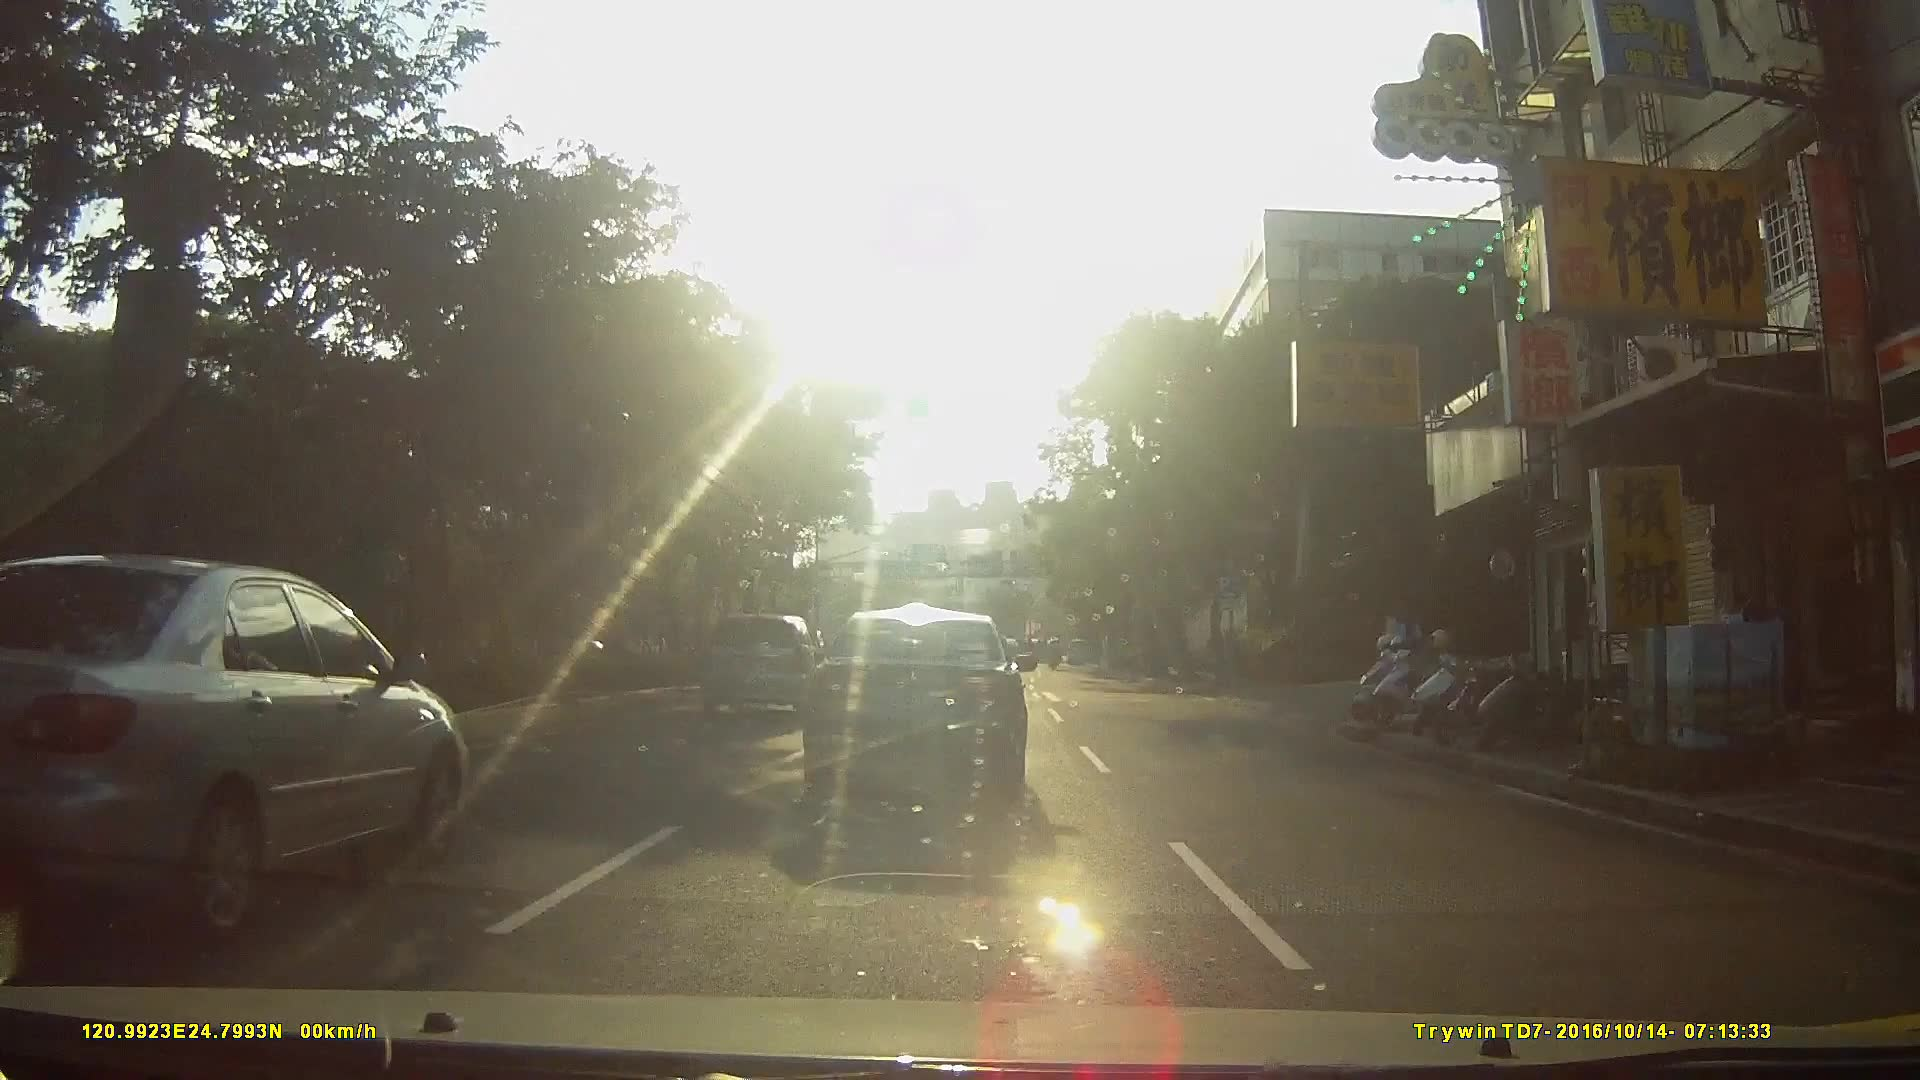pedestrian: (1719, 587, 1785, 742)
vehicle: (0, 554, 493, 934), (811, 604, 1051, 814), (701, 612, 827, 717), (1064, 636, 1098, 667)
